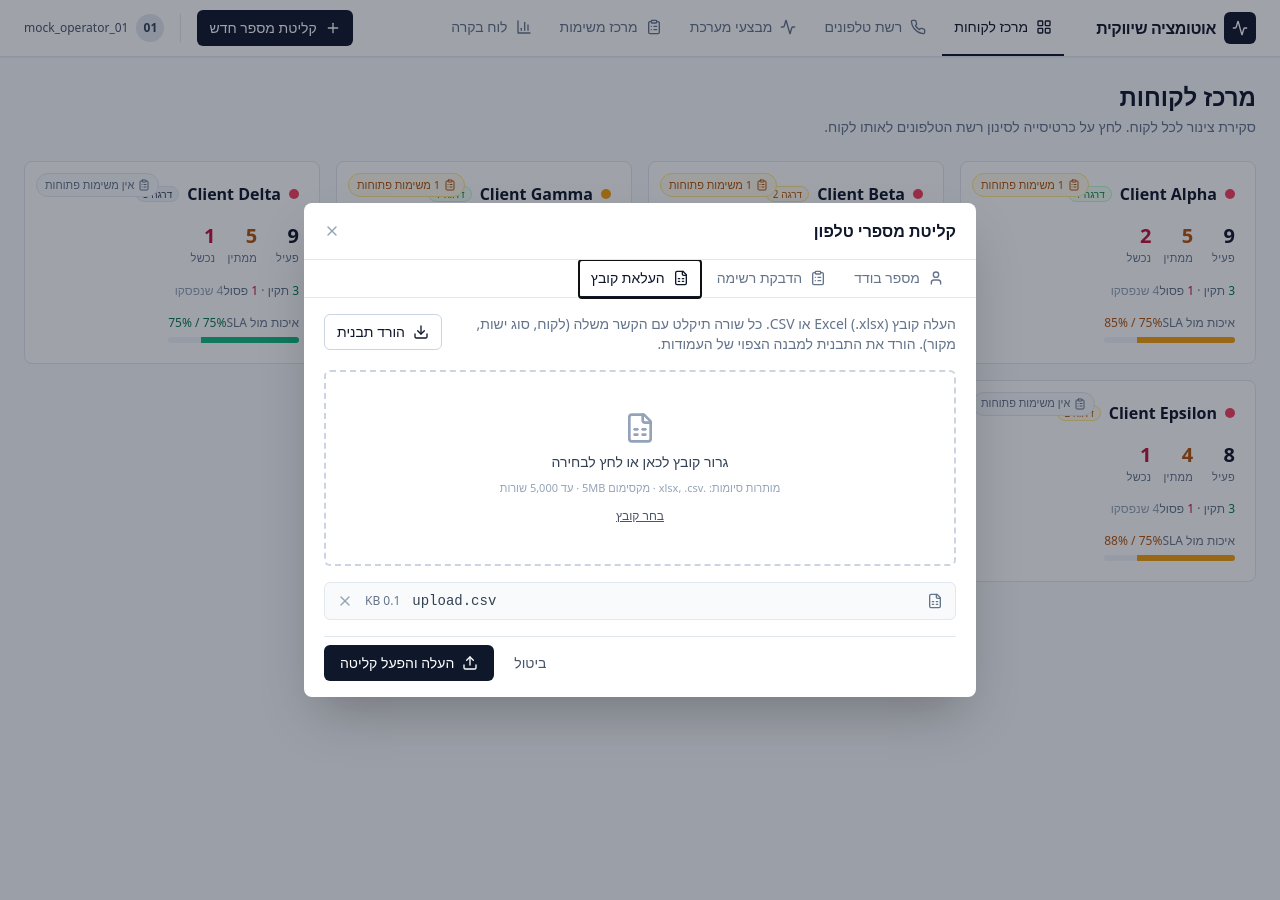
Test: Phase E1-D — file-upload tab › remove button clears the selected file and re-disables submit
The image size is (1280, 900).
Earlier steps of the test are not shown.
Check: the button "העלה והפעל קליטה" is enabled, box [324,645,494,681]
Click the button named "הסר" at (345, 601), box [337,593,353,609]
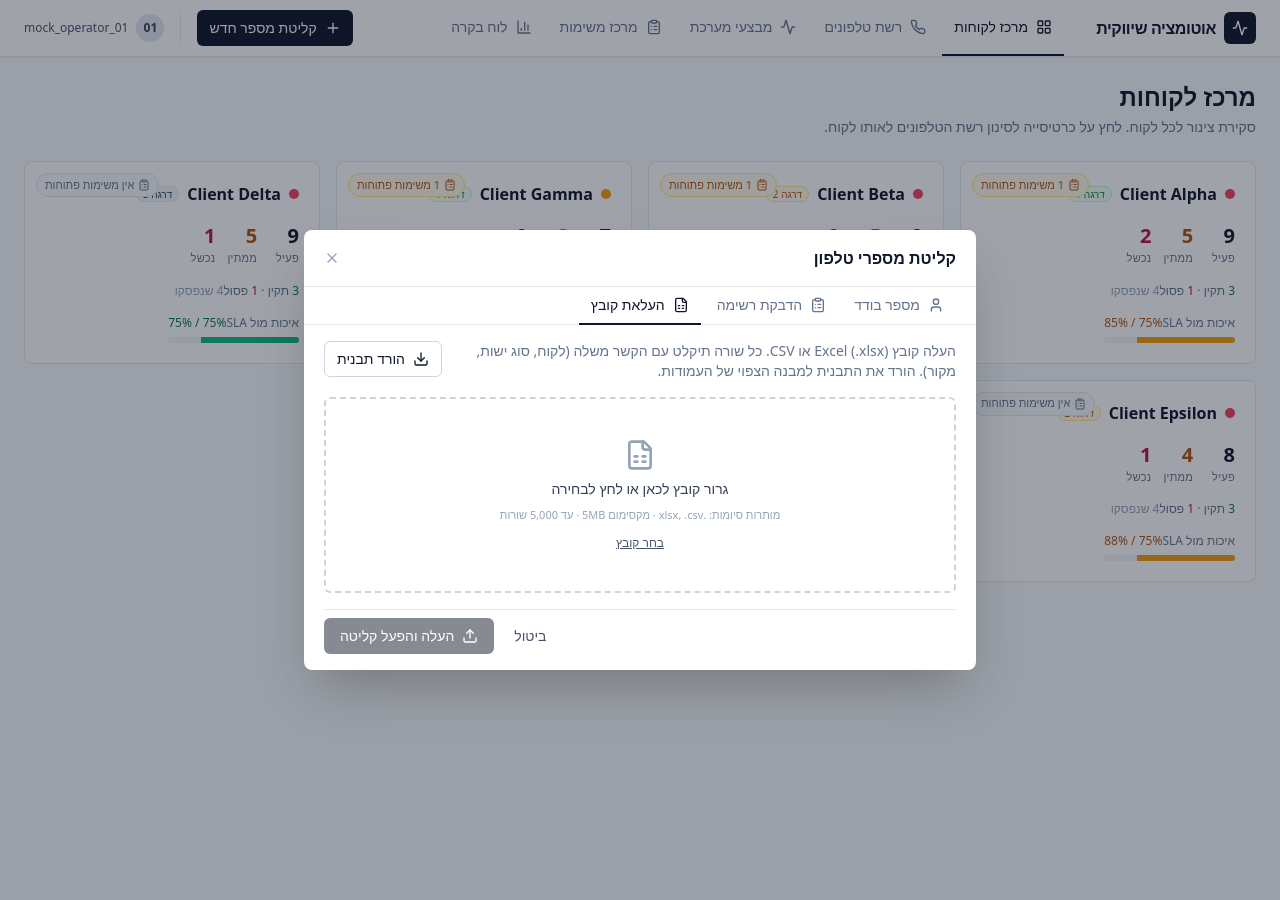
Check: the text "upload.csv" is gone
Check: the button "העלה והפעל קליטה" is disabled, box [324,618,494,654]
